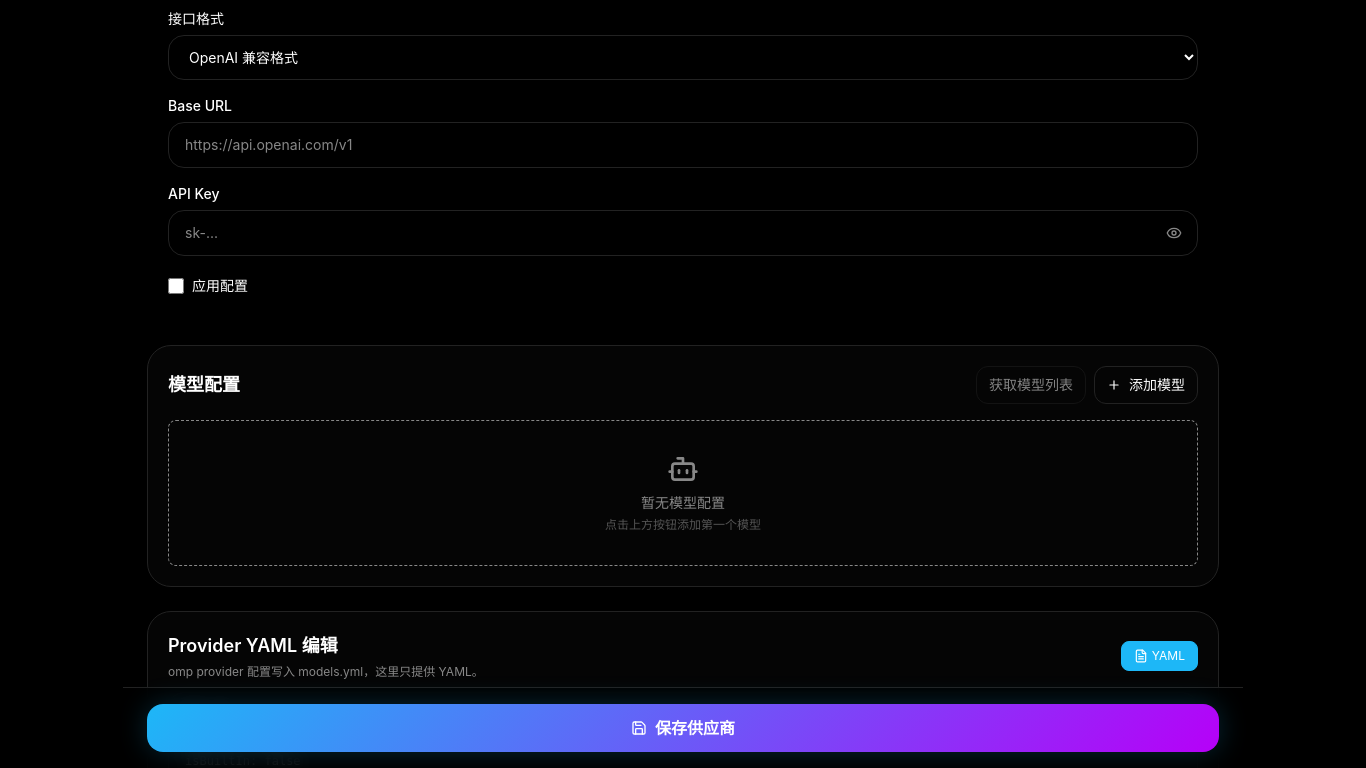
Test: ProviderEditor › adds a model to the form
This screenshot has width=1366, height=768.
(page scrolled)
Click the button with test id "add-model-btn": point(1146, 384) [1094,366,1198,404]
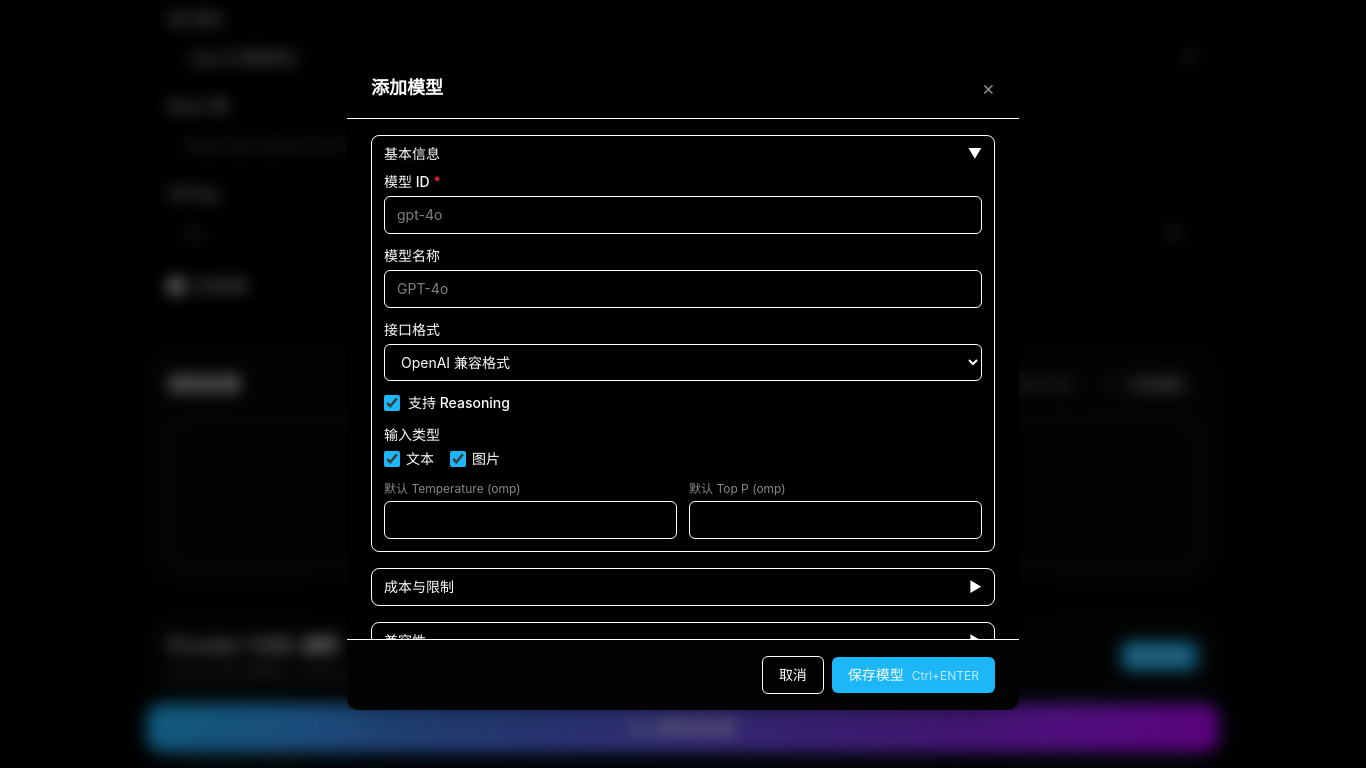
In the field with test id "model-id-input": point(683, 215) [384,196,982,234], type "gpt-4"
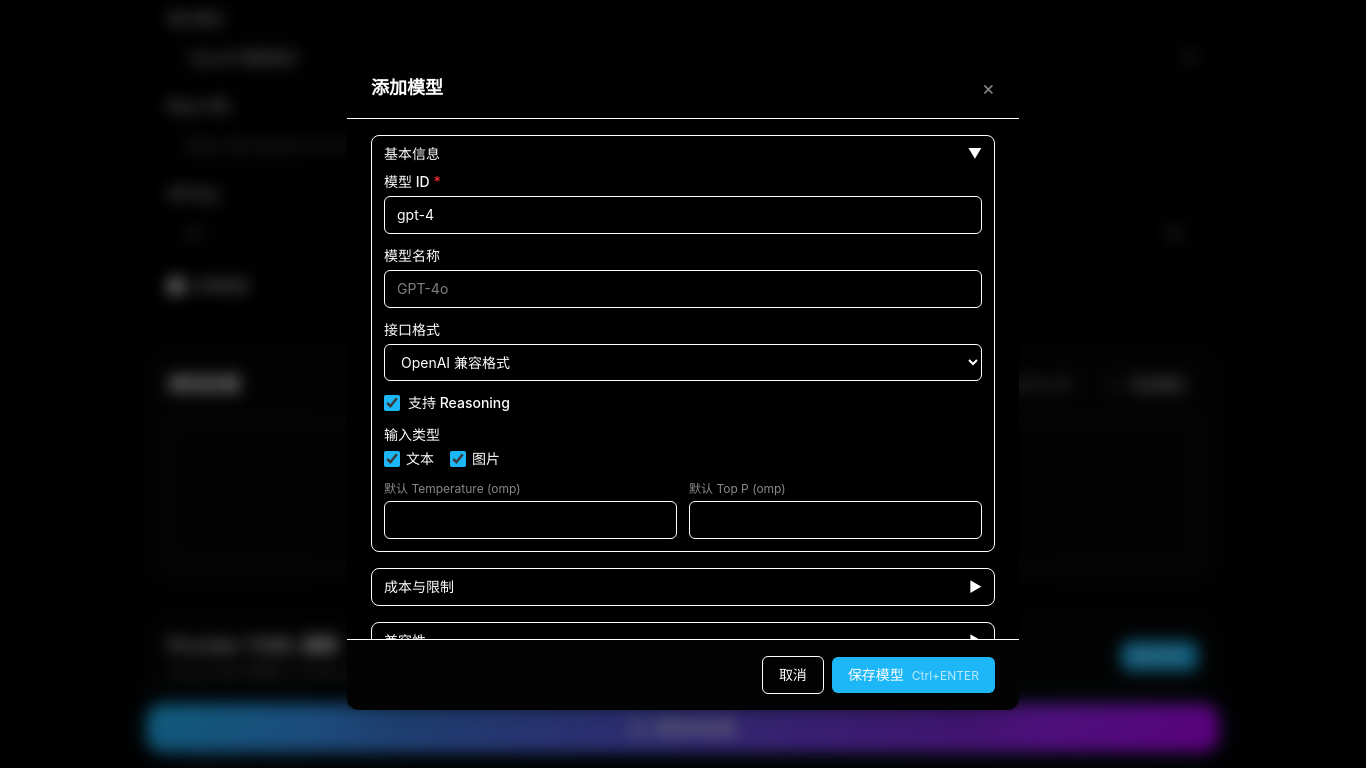
In the field with test id "model-name-input": point(683, 289) [384,270,982,308], type "GPT-4"
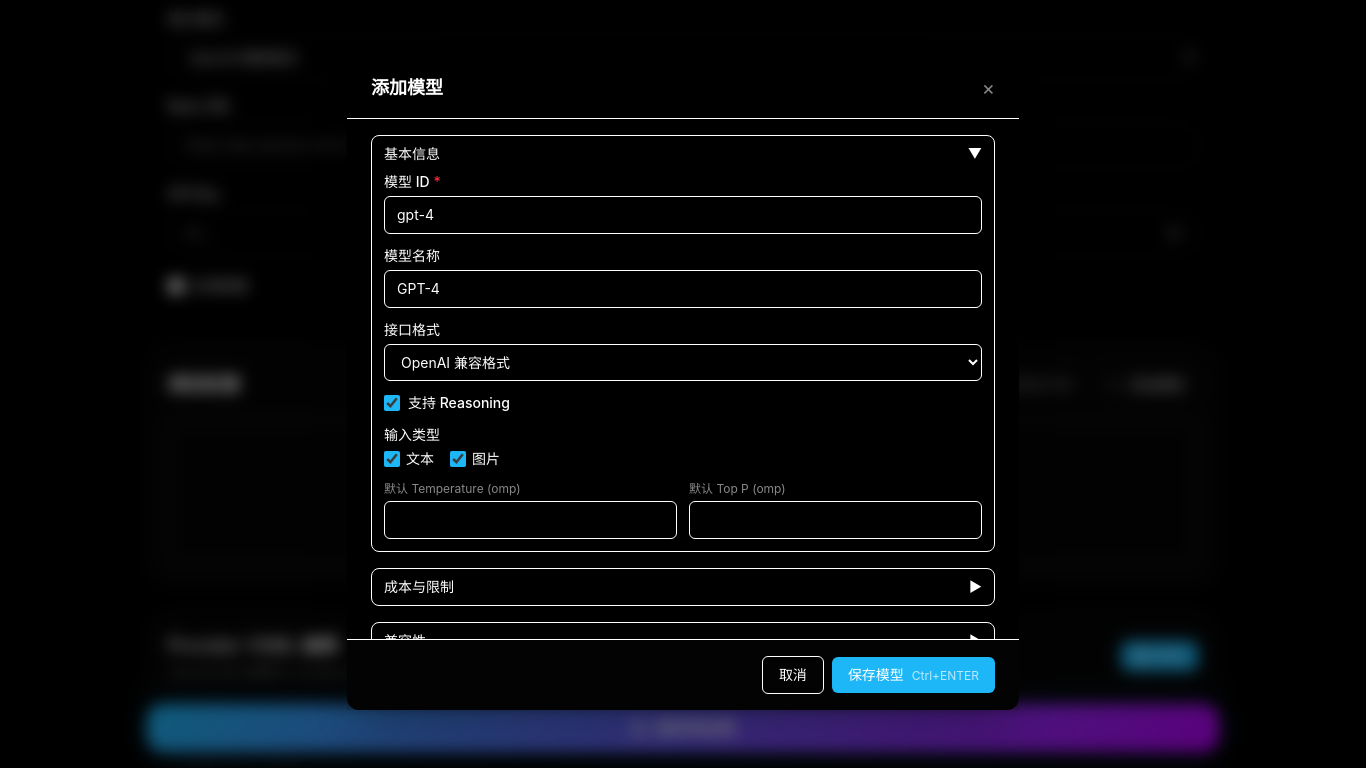
Click the button with test id "save-model-btn": point(913, 675) [832,657,995,693]
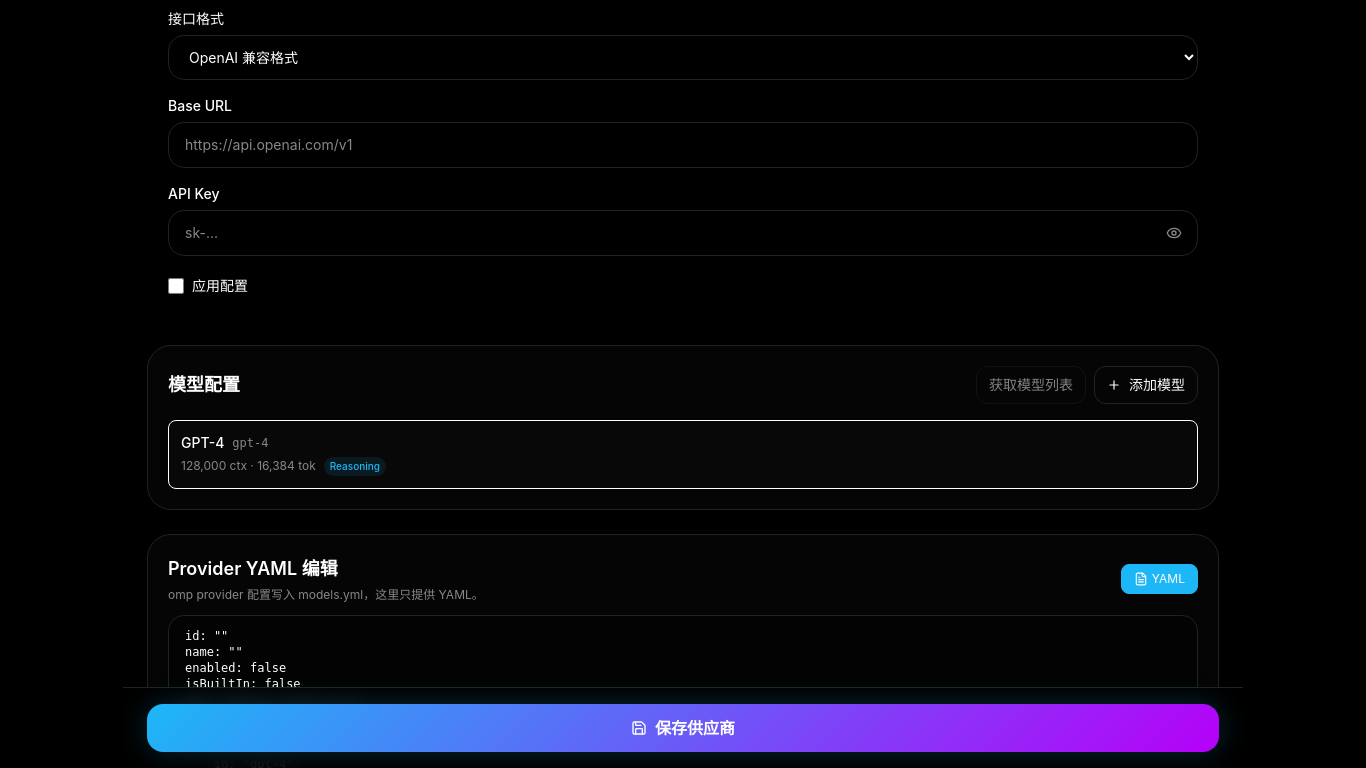
Now the element with test id "model-item-gpt-4" is shown, box [168,420,1198,488]
Now the text "GPT-4" is shown, box [181,432,224,452]
